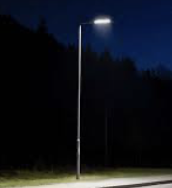LED: (93, 13, 111, 27)
